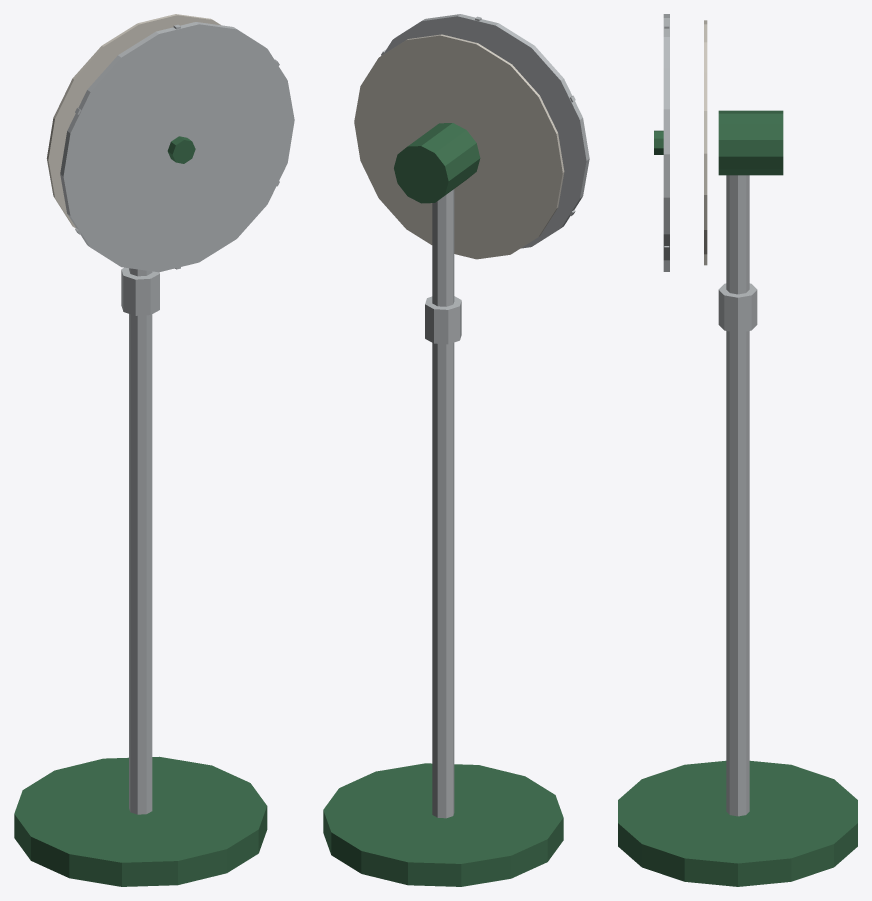
The model's file is QuatCayDung.glb.
The picture shows the model from 3 angles, left to right: view 1: azimuth 30°, elevation 25°; view 2: azimuth 150°, elevation 25°; view 3: azimuth 270°, elevation 25°; orthographic projection. The views are drawn at different scales.
Visible parts, largest first — view 1: QuatCayDung_1, QuatCayDung, QuatCayDung_2; view 2: QuatCayDung_2, QuatCayDung, QuatCayDung_1; view 3: QuatCayDung, QuatCayDung_1, QuatCayDung_2.
Boxes of the visible parts, x1=… form: QuatCayDung_1: x1=60, y1=22, x2=294, y2=814; QuatCayDung: x1=14, y1=136, x2=267, y2=886; QuatCayDung_2: x1=46, y1=14, x2=220, y2=228; QuatCayDung_2: x1=354, y1=34, x2=564, y2=259; QuatCayDung: x1=323, y1=123, x2=563, y2=886; QuatCayDung_1: x1=381, y1=14, x2=589, y2=818; QuatCayDung: x1=618, y1=110, x2=857, y2=886; QuatCayDung_1: x1=663, y1=14, x2=757, y2=816; QuatCayDung_2: x1=704, y1=20, x2=707, y2=265.
Size of the model in its own units: 0.4 by 1.38 by 0.3705.
